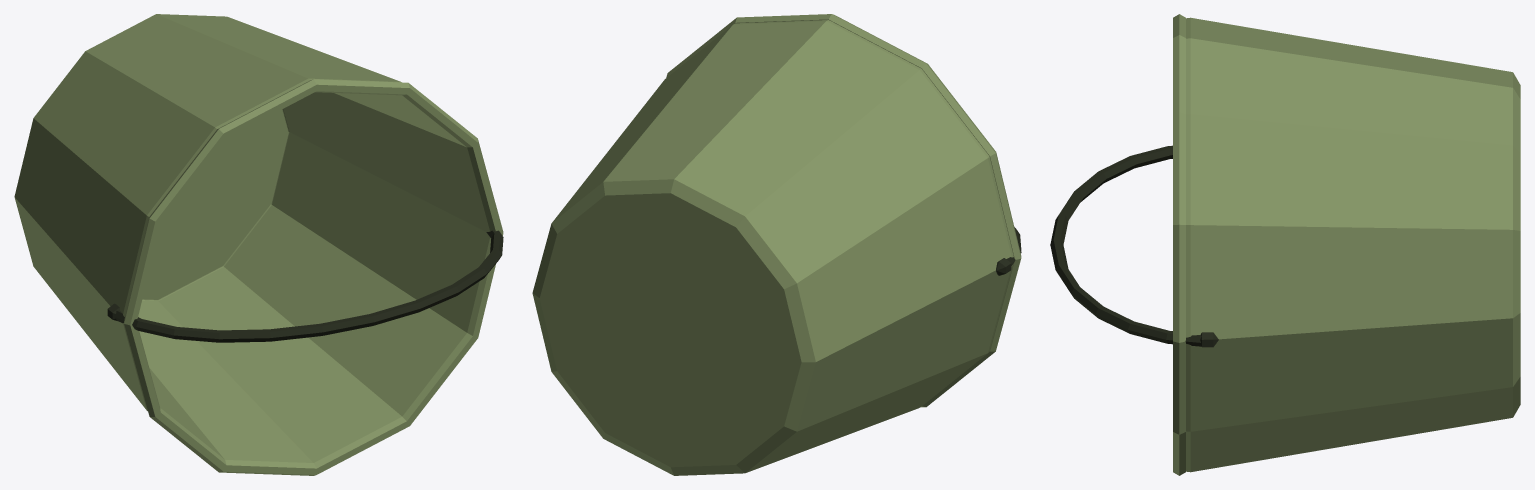
File: bucket.glb
3 renders of one model, left to right at view 1: azimuth 30°, elevation 25°; view 2: azimuth 150°, elevation 25°; view 3: azimuth 270°, elevation 25°, orthographic. The views are drawn at different scales.
Visible parts, largest first — view 1: bucket; view 2: bucket; view 3: bucket.
Part boxes in pixels (x1,y1,x2,y2): bucket: (14, 14, 503, 475); bucket: (532, 14, 1021, 475); bucket: (1050, 14, 1520, 475).
Size of the model in its own units: 0.2472 by 0.246 by 0.2495.
